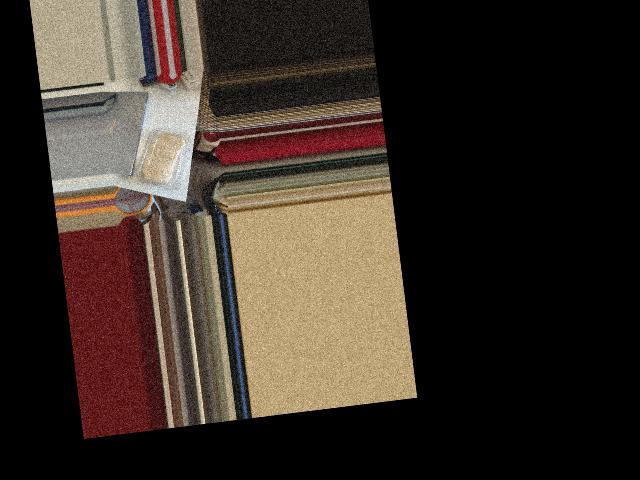cheese: (130, 121, 197, 198)
